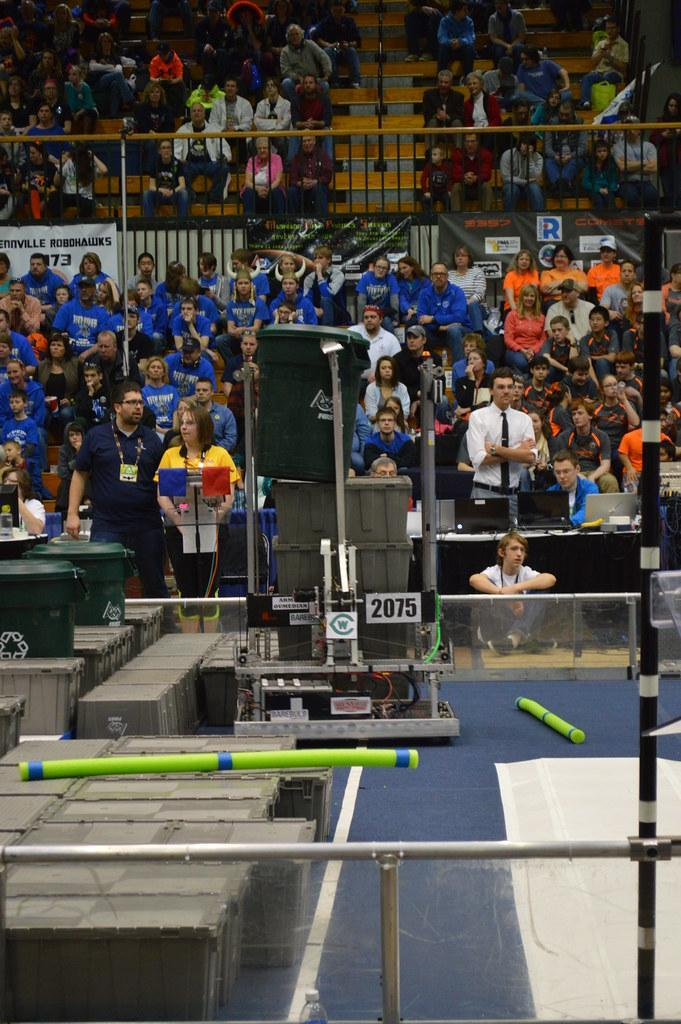robot: (222, 320, 468, 756)
